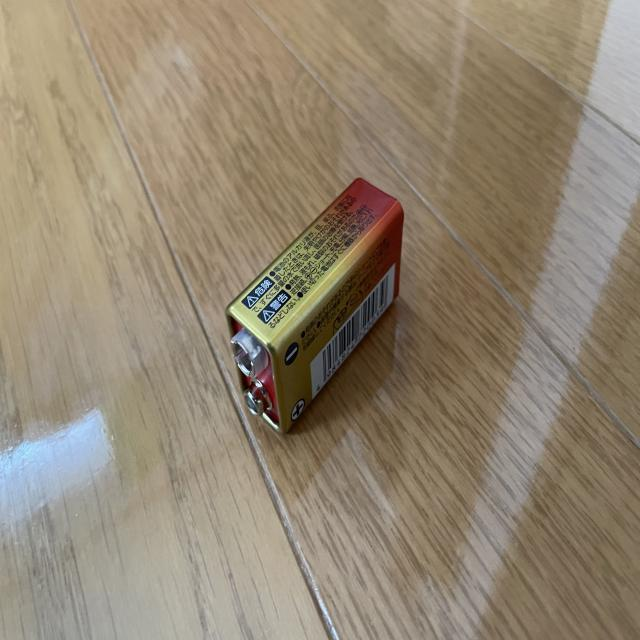9V: (222, 178, 404, 439)
